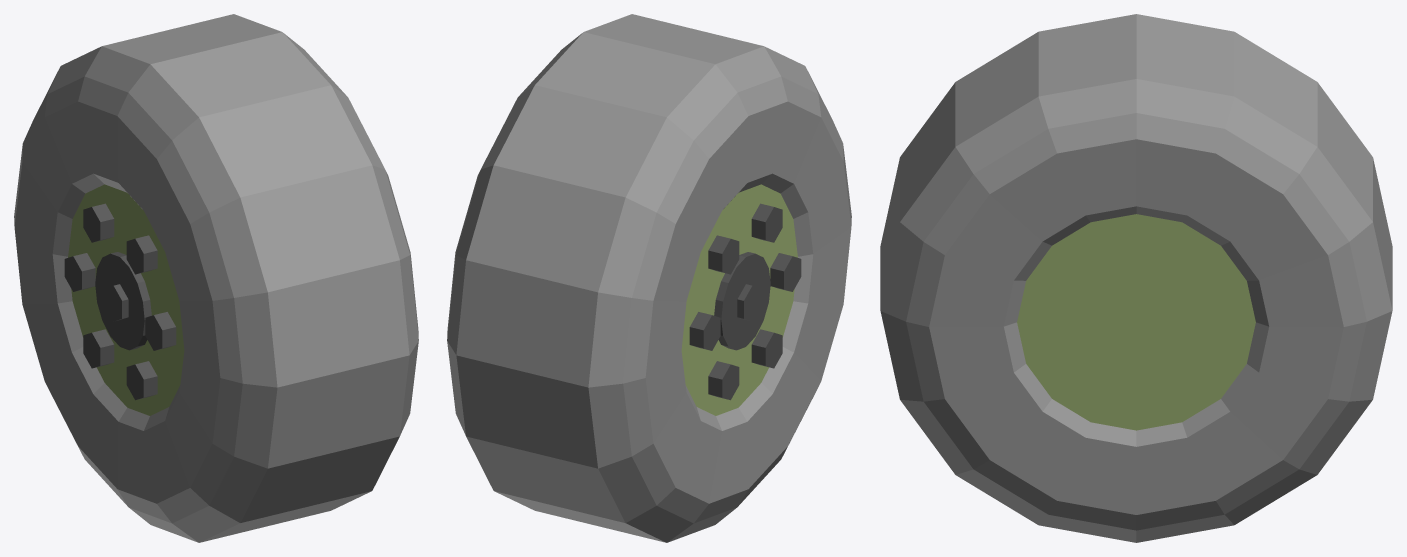
File: LazarWheel.fbx
3 renders of one model, left to right at view 1: azimuth 30°, elevation 25°; view 2: azimuth 150°, elevation 25°; view 3: azimuth 270°, elevation 25°, orthographic.
Parts seen in each view (by area): view 1: LazarWheel; view 2: LazarWheel; view 3: LazarWheel.
Boxes of the visible parts, x1,y1,x2,y2 form: LazarWheel: (14, 14, 418, 542); LazarWheel: (447, 14, 851, 542); LazarWheel: (880, 14, 1392, 542).
Bounding box in the file's own units: 94.17 × 205 × 205.
